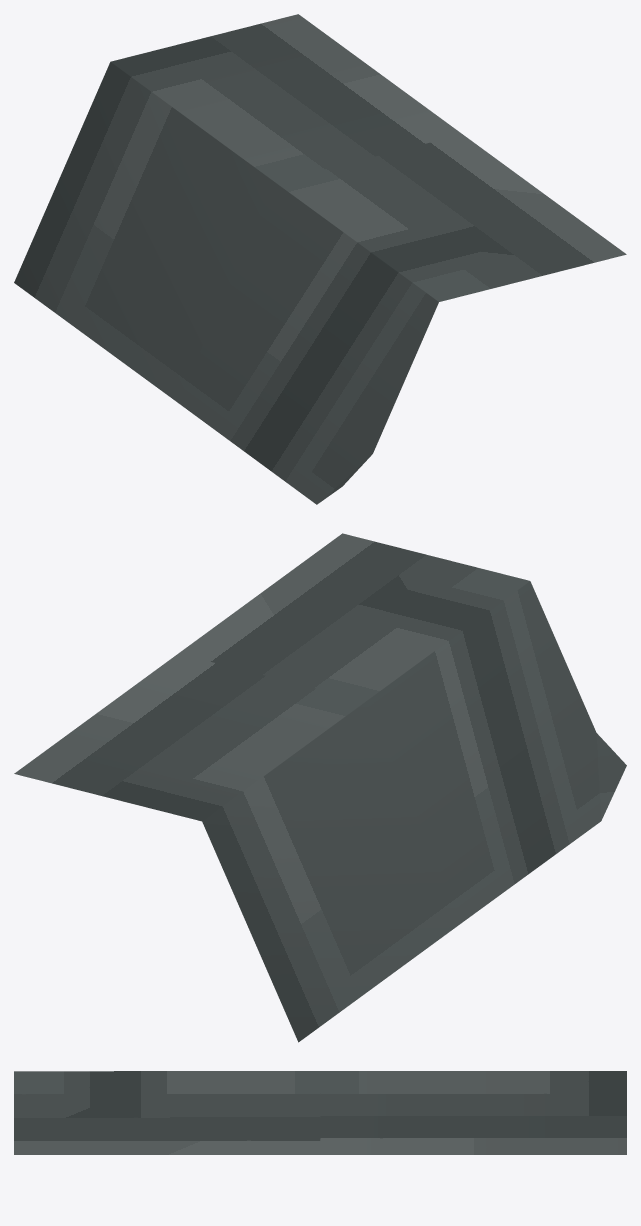
3 renders of one model, top to bottom at view 1: azimuth 30°, elevation 25°; view 2: azimuth 150°, elevation 25°; view 3: azimuth 270°, elevation 25°, orthographic. The views are drawn at different scales.
Size of the model in its own units: 0.5 by 0.3354 by 1.
Materials: 2 (2 with a texture image).
